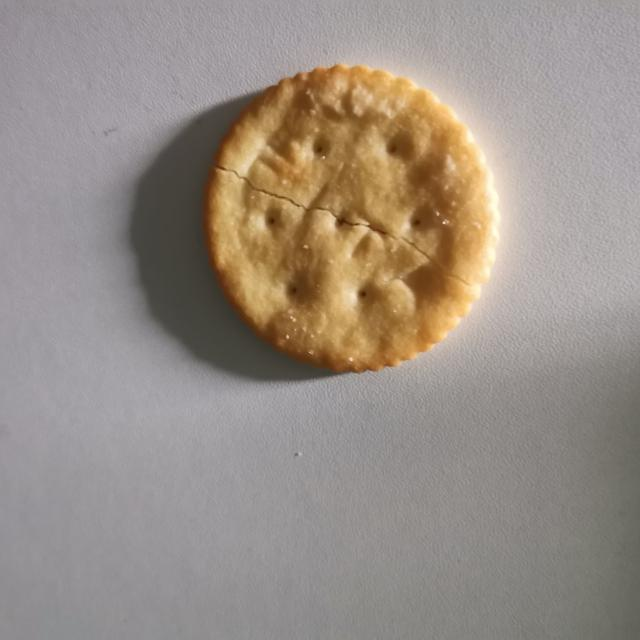Fracture: (204, 141, 493, 312)
